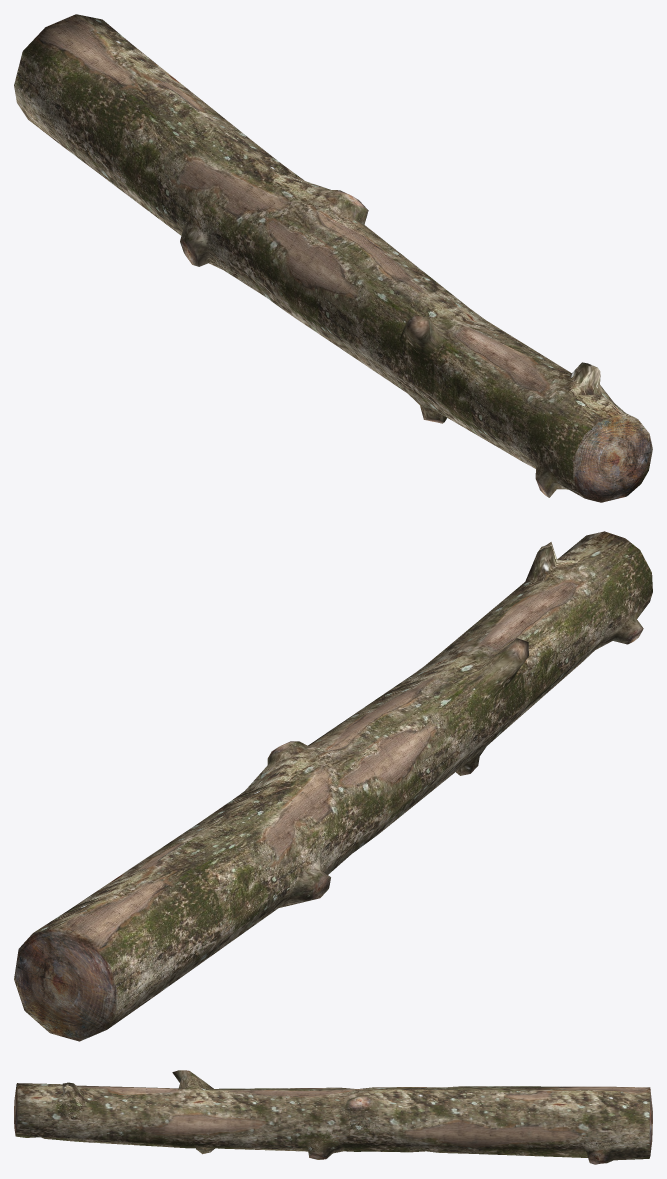
File: Log.fbx
3 views of the same model, one above another, from view 1: azimuth 30°, elevation 25°; view 2: azimuth 150°, elevation 25°; view 3: azimuth 270°, elevation 25° (orthographic). The views are drawn at different scales.
Visible parts, largest first — view 1: Log; view 2: Log; view 3: Log.
Boxes of the visible parts, box(x1,y1,x2,y2) form: Log: box(14, 14, 652, 502); Log: box(14, 531, 652, 1041); Log: box(14, 1070, 652, 1164).
Bounding box in the file's own units: 20.09 × 21.08 × 154.
Materials: 1 (1 with a texture image).
